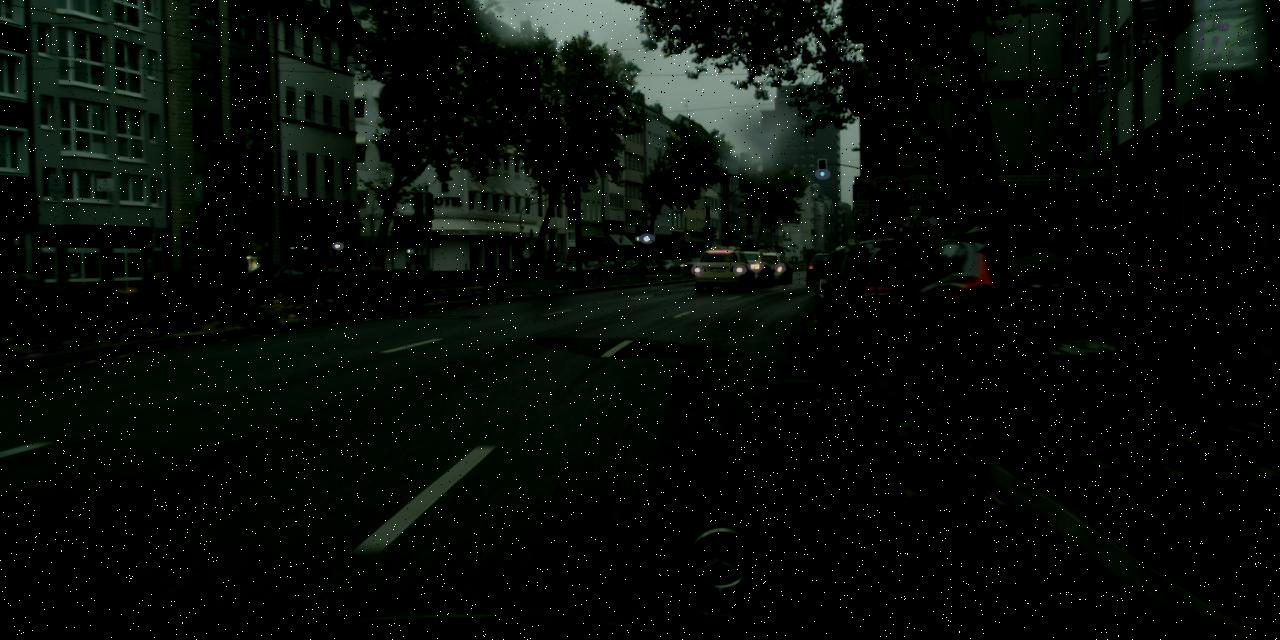ped: (1078, 215, 1133, 349), (1030, 208, 1081, 334), (960, 214, 1000, 313)
